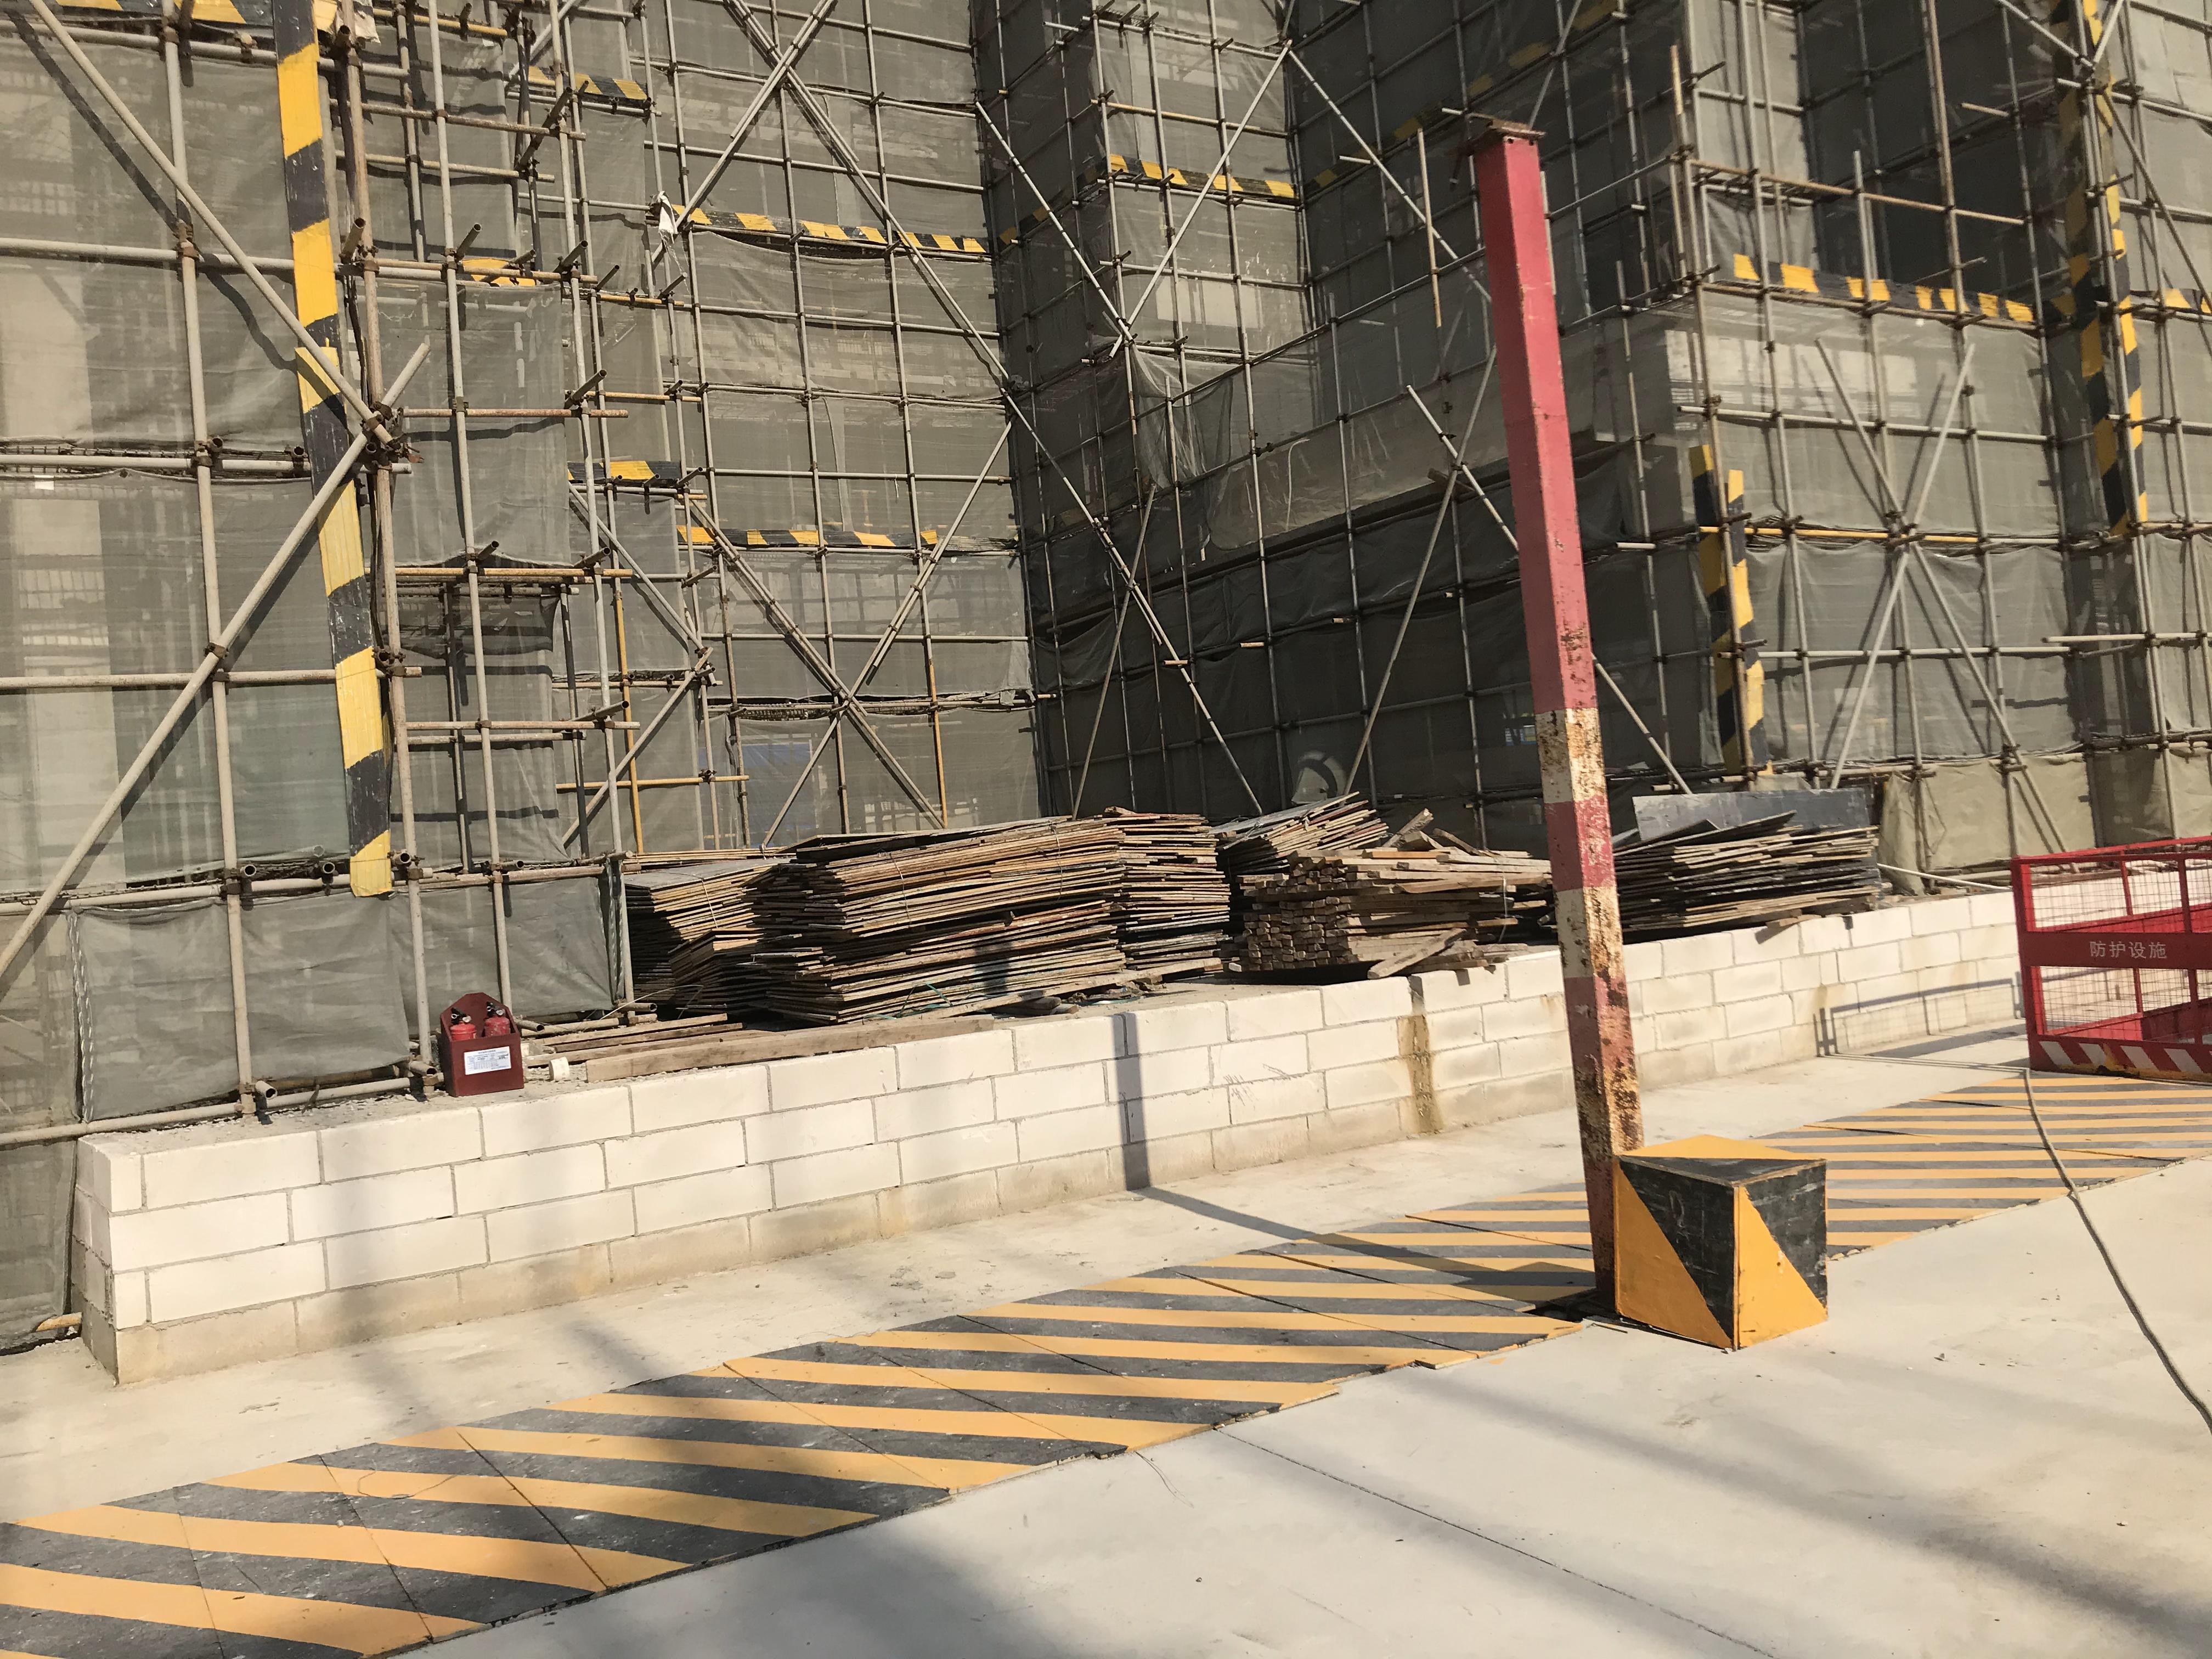board: (742, 814, 1122, 1023), (1620, 816, 1881, 945), (622, 852, 798, 1018), (1116, 812, 1221, 971), (1214, 791, 1386, 868)
